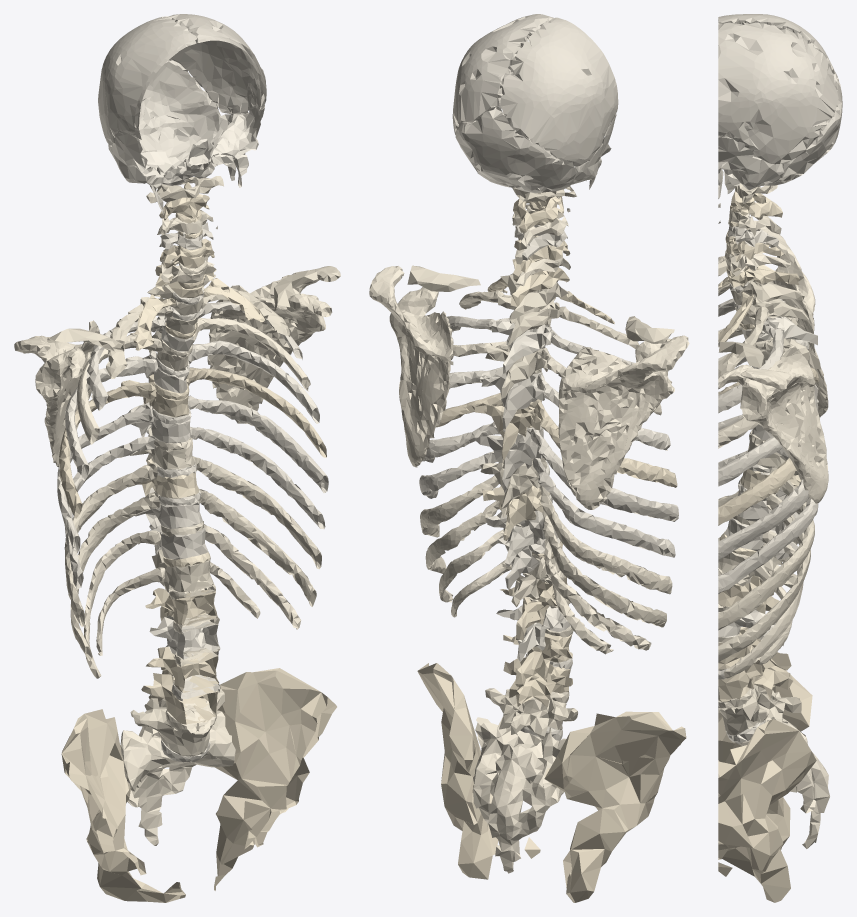
The model's file is scheletro_interno.glb.
The picture shows the model from 3 angles, left to right: view 1: azimuth 30°, elevation 25°; view 2: azimuth 150°, elevation 25°; view 3: azimuth 270°, elevation 25°; orthographic projection.
Parts seen in each view (by area): view 1: left hip, right hip, occipital bone, left scapula, right parietal bone, left parietal bone, posterior part of pelvis, right scapula, left seventh rib, left ninth rib, left tenth rib, left eighth rib (+44 smaller); view 2: right hip, right scapula, right parietal bone, posterior part of pelvis, left scapula, left hip, occipital bone, left parietal bone, right eighth rib, right ninth rib, fifth lumbar vertebra, right tenth rib (+38 smaller); view 3: left parietal bone, left hip, left scapula, right hip, left ninth rib, left temporal bone, right scapula, left eighth rib, fifth lumbar vertebra, left tenth rib, posterior part of pelvis, left seventh rib (+33 smaller).
Boxes of the visible parts, x1=… form: left hip: x1=214, y1=668, x2=336, y2=890; right hip: x1=61, y1=709, x2=185, y2=902; occipital bone: x1=138, y1=60, x2=220, y2=185; left scapula: x1=207, y1=266, x2=340, y2=423; right parietal bone: x1=98, y1=17, x2=196, y2=145; left parietal bone: x1=161, y1=14, x2=266, y2=113; posterior part of pelvis: x1=120, y1=710, x2=235, y2=845; right scapula: x1=14, y1=320, x2=99, y2=466; left seventh rib: x1=188, y1=395, x2=328, y2=492; left ninth rib: x1=192, y1=456, x2=321, y2=569; left tenth rib: x1=198, y1=487, x2=316, y2=606; left eighth rib: x1=190, y1=426, x2=325, y2=529; right hip: x1=544, y1=711, x2=686, y2=902; right scapula: x1=558, y1=335, x2=689, y2=509; right parietal bone: x1=497, y1=17, x2=618, y2=166; posterior part of pelvis: x1=473, y1=717, x2=565, y2=873; left scapula: x1=369, y1=266, x2=453, y2=467; left hip: x1=417, y1=663, x2=540, y2=879; occipital bone: x1=455, y1=106, x2=576, y2=193; left parietal bone: x1=452, y1=14, x2=553, y2=134; right eighth rib: x1=532, y1=458, x2=675, y2=557; right ninth rib: x1=539, y1=485, x2=672, y2=594; fifth lumbar vertebra: x1=485, y1=688, x2=577, y2=741; right tenth rib: x1=542, y1=510, x2=666, y2=627; left parietal bone: x1=718, y1=22, x2=838, y2=164; left hip: x1=718, y1=719, x2=816, y2=902; left scapula: x1=718, y1=345, x2=828, y2=503; right hip: x1=718, y1=666, x2=812, y2=846; left ninth rib: x1=718, y1=467, x2=814, y2=630; left temporal bone: x1=718, y1=135, x2=783, y2=193; right scapula: x1=718, y1=228, x2=828, y2=417; left eighth rib: x1=718, y1=448, x2=818, y2=593; fifth lumbar vertebra: x1=718, y1=684, x2=801, y2=735; left tenth rib: x1=718, y1=493, x2=810, y2=661; posterior part of pelvis: x1=739, y1=692, x2=829, y2=848; left seventh rib: x1=718, y1=479, x2=808, y2=559.
Size of the model in its own units: 333 by 884 by 116.
